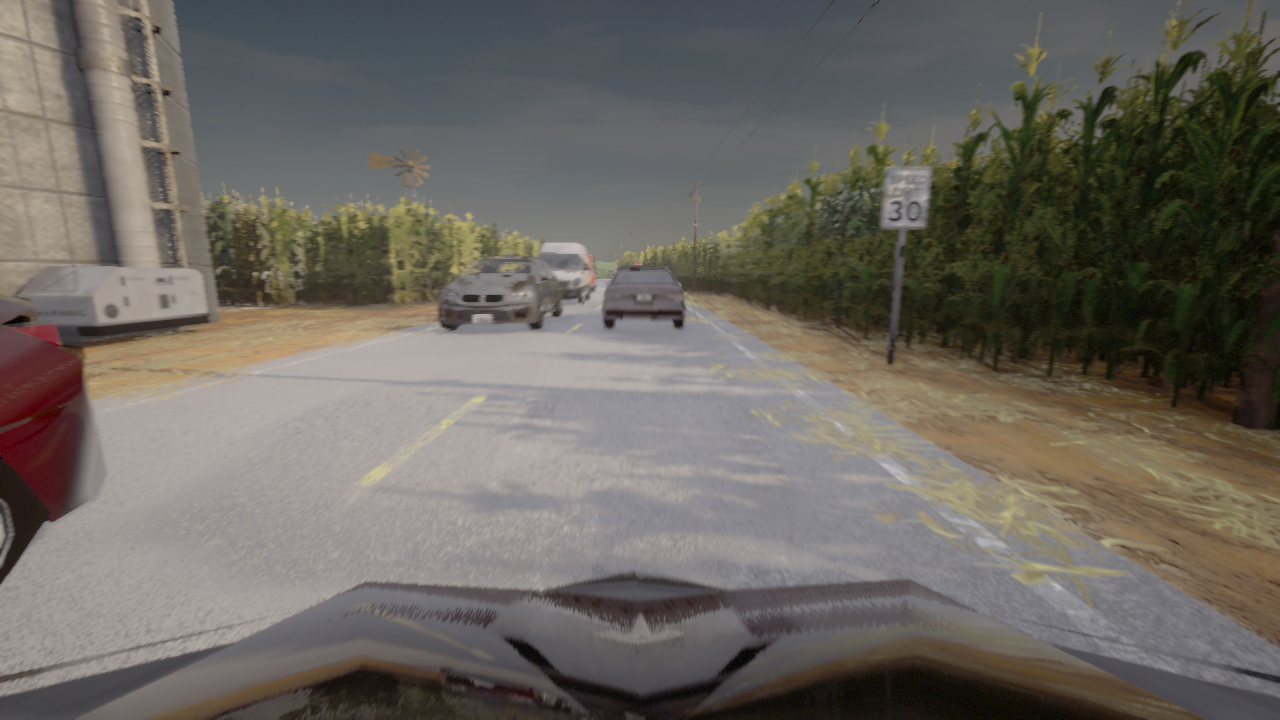cyclist: (0, 569, 1279, 719), (437, 255, 562, 329), (603, 266, 685, 327), (539, 242, 590, 303), (588, 255, 596, 291)
